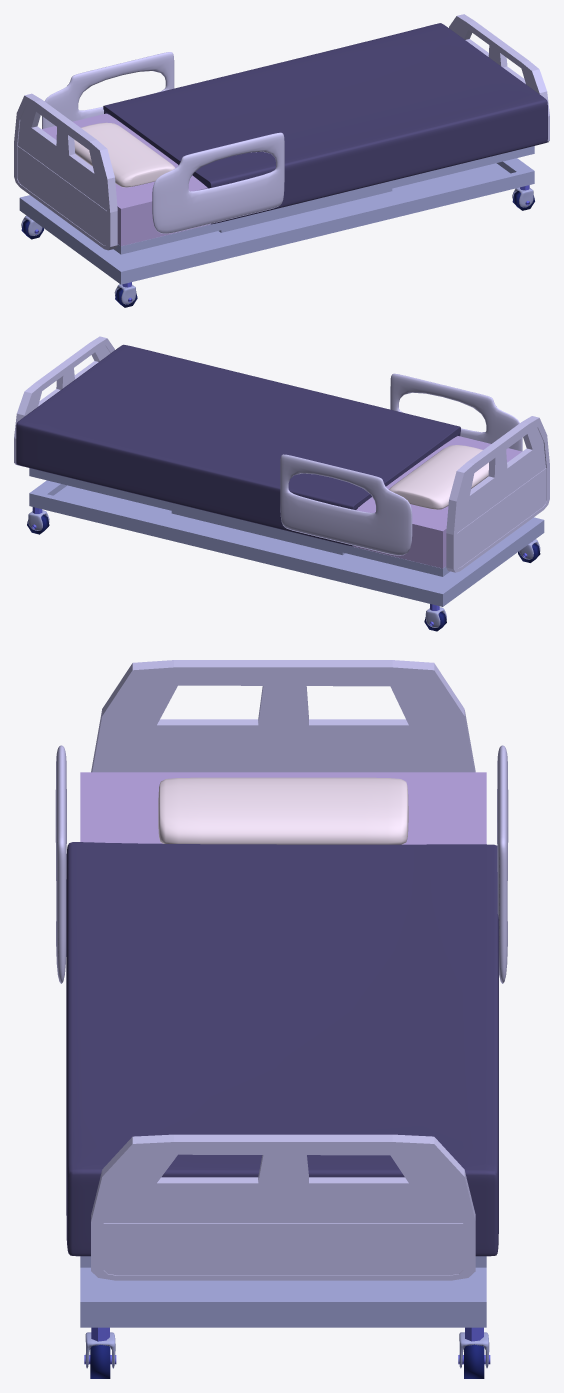
The model's file is hospital_bed.glb.
The picture shows the model from 3 angles, top to bottom: view 1: azimuth 30°, elevation 25°; view 2: azimuth 150°, elevation 25°; view 3: azimuth 270°, elevation 25°; orthographic projection. The views are drawn at different scales.
Visible parts, largest first — view 1: couverture_1, matelas.003_5, Cube.002_23, Plane_24, matelas.001_3, matelas_0, Cube_2, Plane.001_25, Cube.001_22, matelas.002_4; view 2: couverture_1, matelas.003_5, Cube.002_23, Plane.001_25, matelas.001_3, matelas_0, Cube_2, Plane_24, Cube.001_22, matelas.002_4; view 3: couverture_1, Cube.001_22, Cube.002_23, matelas.003_5, Cube_2, matelas_0, Plane_24, Plane.001_25.
Part boxes in pixels (x1=…): couverture_1: x1=103, y1=23, x2=547, y2=224; matelas.003_5: x1=19, y1=158, x2=534, y2=284; Cube.002_23: x1=14, y1=93, x2=117, y2=250; Plane_24: x1=152, y1=132, x2=284, y2=233; matelas.001_3: x1=114, y1=146, x2=534, y2=254; matelas_0: x1=42, y1=113, x2=210, y2=246; Cube_2: x1=74, y1=122, x2=175, y2=187; Plane.001_25: x1=42, y1=52, x2=174, y2=128; Cube.001_22: x1=449, y1=14, x2=549, y2=143; matelas.002_4: x1=219, y1=188, x2=392, y2=232; couverture_1: x1=16, y1=344, x2=460, y2=546; matelas.003_5: x1=29, y1=480, x2=544, y2=606; Cube.002_23: x1=446, y1=416, x2=549, y2=572; Plane.001_25: x1=280, y1=454, x2=412, y2=555; matelas.001_3: x1=29, y1=468, x2=449, y2=576; matelas_0: x1=352, y1=436, x2=521, y2=568; Cube_2: x1=389, y1=445, x2=488, y2=509; Plane_24: x1=390, y1=373, x2=522, y2=451; Cube.001_22: x1=14, y1=336, x2=114, y2=466; matelas.002_4: x1=171, y1=511, x2=345, y2=555; couverture_1: x1=66, y1=842, x2=498, y2=1256; Cube.001_22: x1=91, y1=1134, x2=475, y2=1280; Cube.002_23: x1=91, y1=660, x2=475, y2=772; matelas.003_5: x1=80, y1=1267, x2=486, y2=1327; Cube_2: x1=158, y1=777, x2=408, y2=844; matelas_0: x1=80, y1=772, x2=486, y2=844; Plane_24: x1=55, y1=745, x2=66, y2=983; Plane.001_25: x1=497, y1=745, x2=508, y2=983.
Size of the model in its own units: 68.63 by 23.04 by 30.57.
